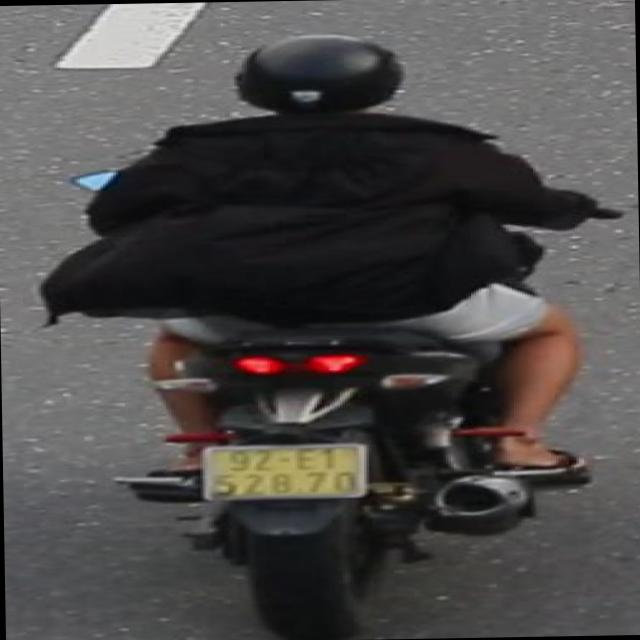LP: (198, 439, 376, 505)
helmet: (228, 28, 406, 124)
